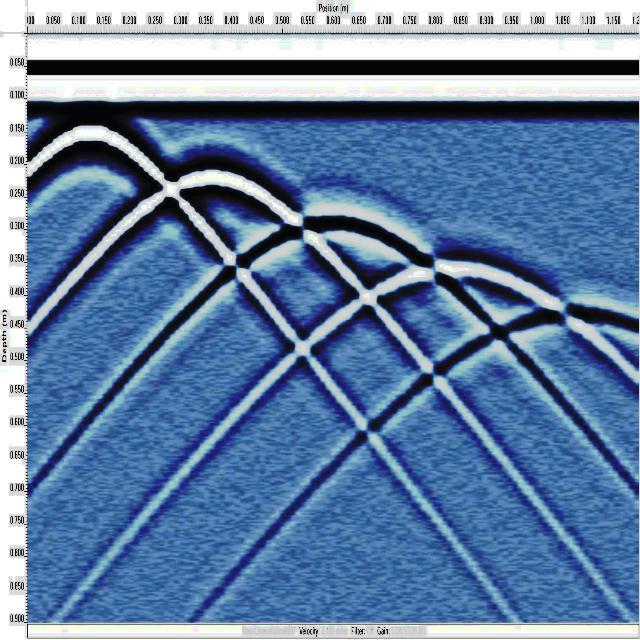hyperbola: (358, 246, 586, 388), (247, 194, 469, 332), (131, 138, 313, 287), (26, 112, 176, 232)
